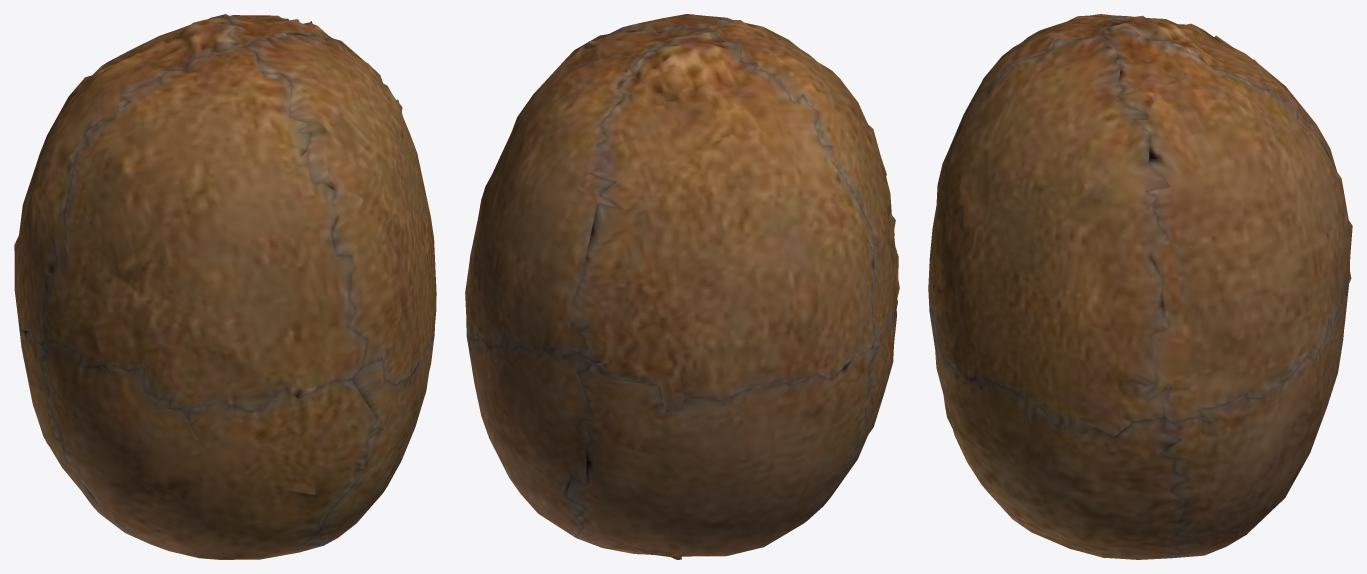
File: kiwi.glb
3 views of the same model, side by side, from view 1: azimuth 30°, elevation 25°; view 2: azimuth 150°, elevation 25°; view 3: azimuth 270°, elevation 25° (orthographic).
Visible parts, largest first — view 1: food_kiwi_01; view 2: food_kiwi_01; view 3: food_kiwi_01.
Boxes of the visible parts, x1=… form: food_kiwi_01: x1=14, y1=14, x2=436, y2=559; food_kiwi_01: x1=465, y1=14, x2=899, y2=559; food_kiwi_01: x1=928, y1=14, x2=1352, y2=559.
Bounding box in the file's own units: 0.0692 × 0.09 × 0.0686.
Materials: 1 (1 with a texture image).
